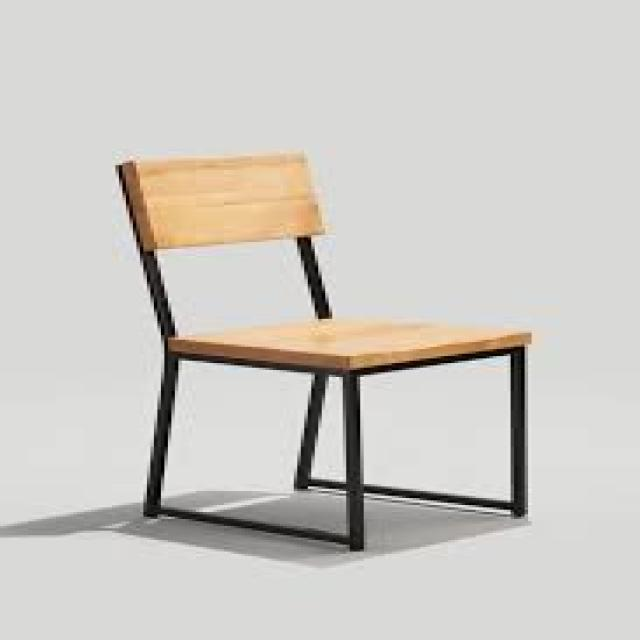chair: (31, 125, 571, 559)
